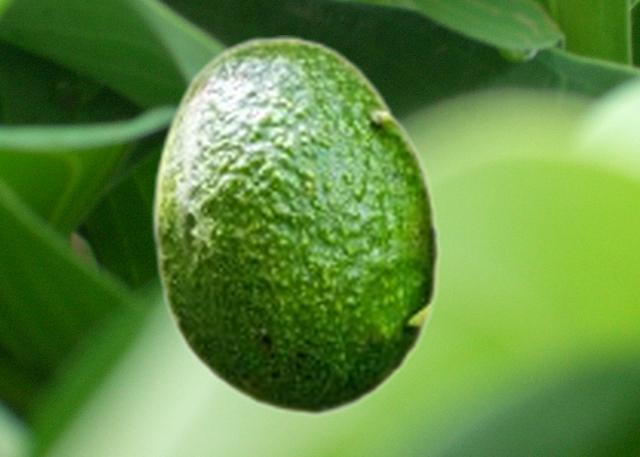avocado: (149, 35, 441, 416)
